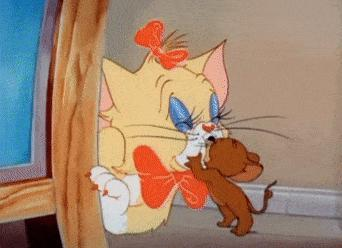jerry: (185, 135, 278, 236)
